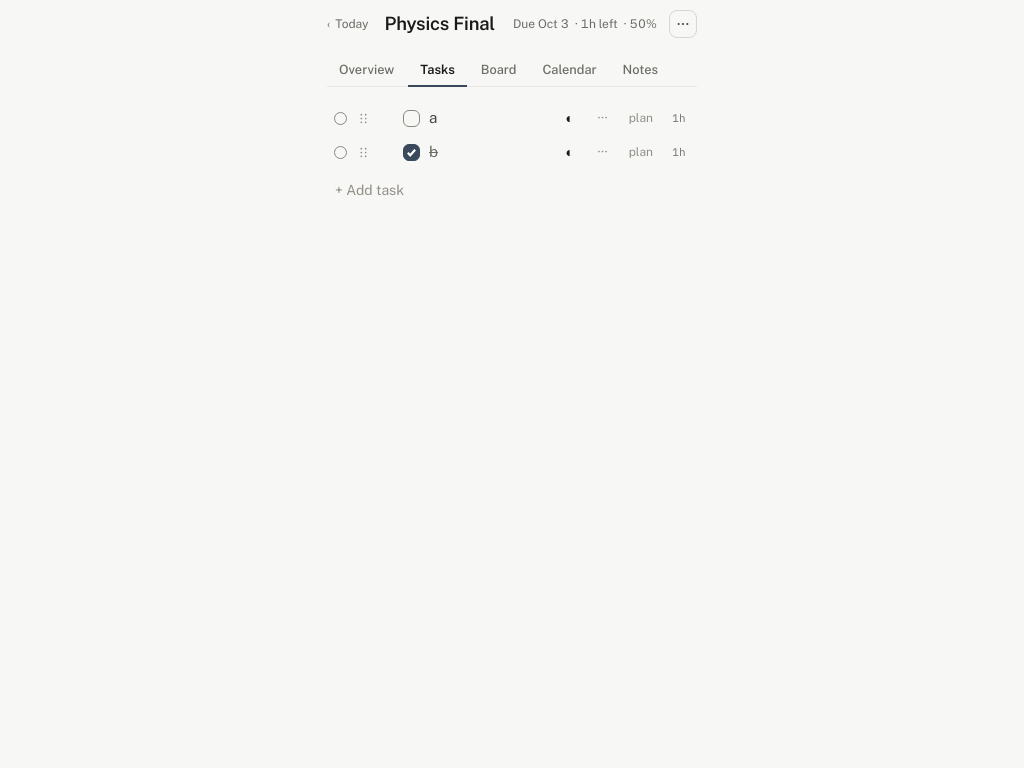
Test case: the compact goal header › keeps the date fields and the clear/confirm controls out of the header
Expected: the button "Clear dates" is not shown
Click the button with aria-label "Goal status and dates": (585, 24) [505,10,665,38]
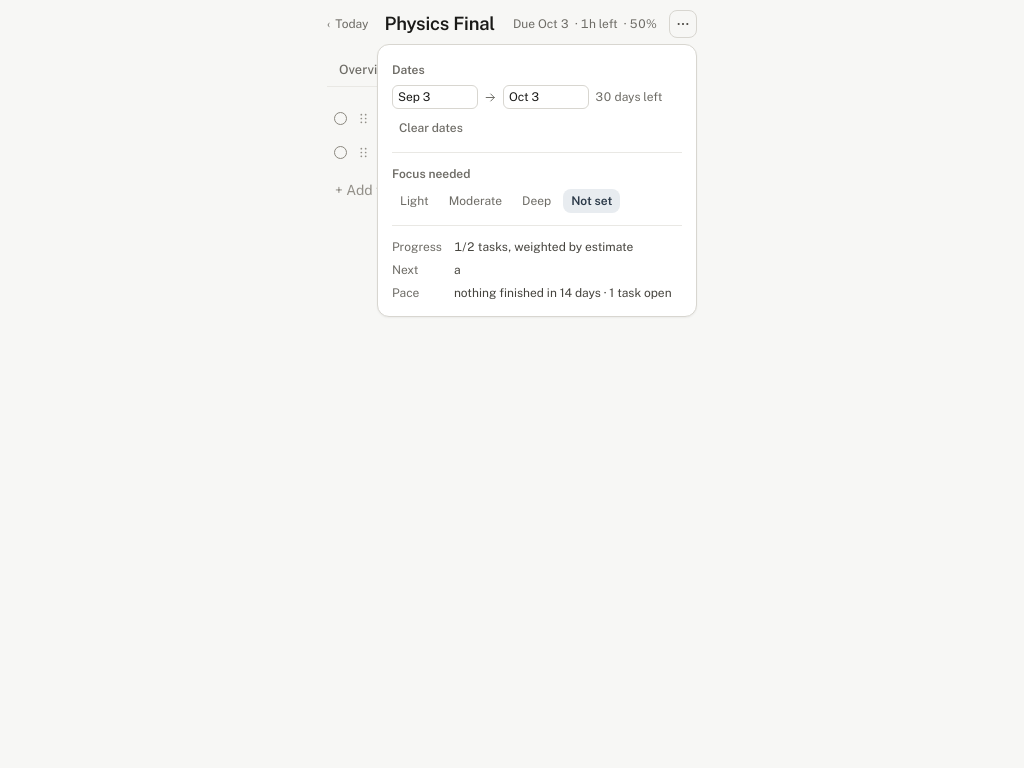
Now the field named "Start date" is shown, box [392,85,478,109]
Now the button "Clear dates" is shown, box [392,116,470,140]
